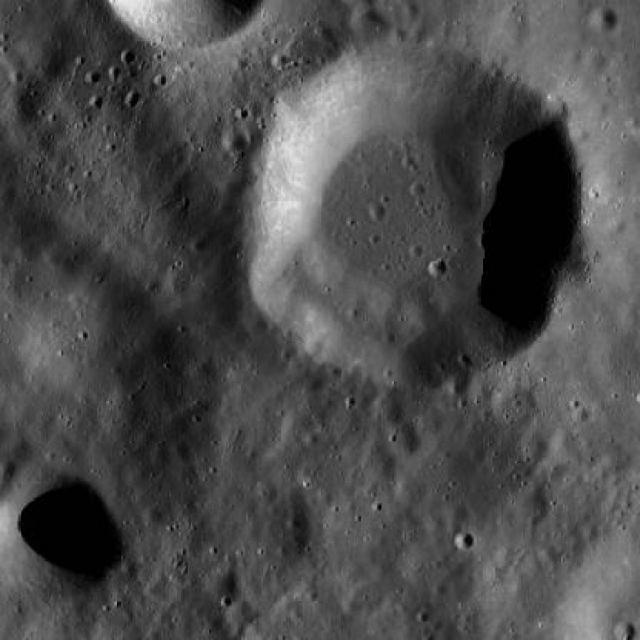crater: (242, 47, 582, 386), (0, 227, 185, 516), (0, 465, 118, 608), (396, 404, 522, 530), (23, 276, 145, 398), (250, 496, 316, 561), (404, 539, 459, 595), (3, 80, 46, 122), (490, 386, 532, 426), (29, 40, 65, 76), (512, 487, 548, 521), (204, 566, 238, 600), (353, 6, 387, 40), (352, 580, 385, 612), (388, 424, 420, 456), (281, 408, 314, 439), (406, 294, 439, 324), (396, 476, 426, 506), (521, 432, 550, 462), (552, 428, 582, 457), (498, 15, 528, 43), (225, 598, 253, 626), (378, 400, 404, 426), (591, 6, 617, 32), (543, 98, 569, 124), (476, 226, 502, 252), (244, 306, 270, 331), (192, 355, 217, 380), (224, 126, 248, 152), (6, 434, 28, 457), (364, 438, 387, 460), (372, 456, 394, 478), (546, 459, 568, 481), (445, 374, 467, 396), (584, 51, 606, 72), (613, 620, 635, 640), (151, 444, 171, 464), (256, 482, 276, 502), (344, 594, 364, 614), (450, 502, 470, 522), (172, 440, 191, 460), (204, 614, 223, 634), (428, 514, 447, 534), (144, 507, 164, 525), (540, 546, 558, 566), (456, 530, 474, 548), (428, 258, 446, 276), (367, 200, 385, 218), (170, 584, 187, 602), (244, 522, 261, 540), (303, 374, 320, 392), (403, 4, 420, 21), (119, 558, 136, 574), (146, 582, 163, 598), (572, 126, 588, 142), (273, 51, 289, 67), (318, 25, 334, 41), (0, 462, 14, 478)
